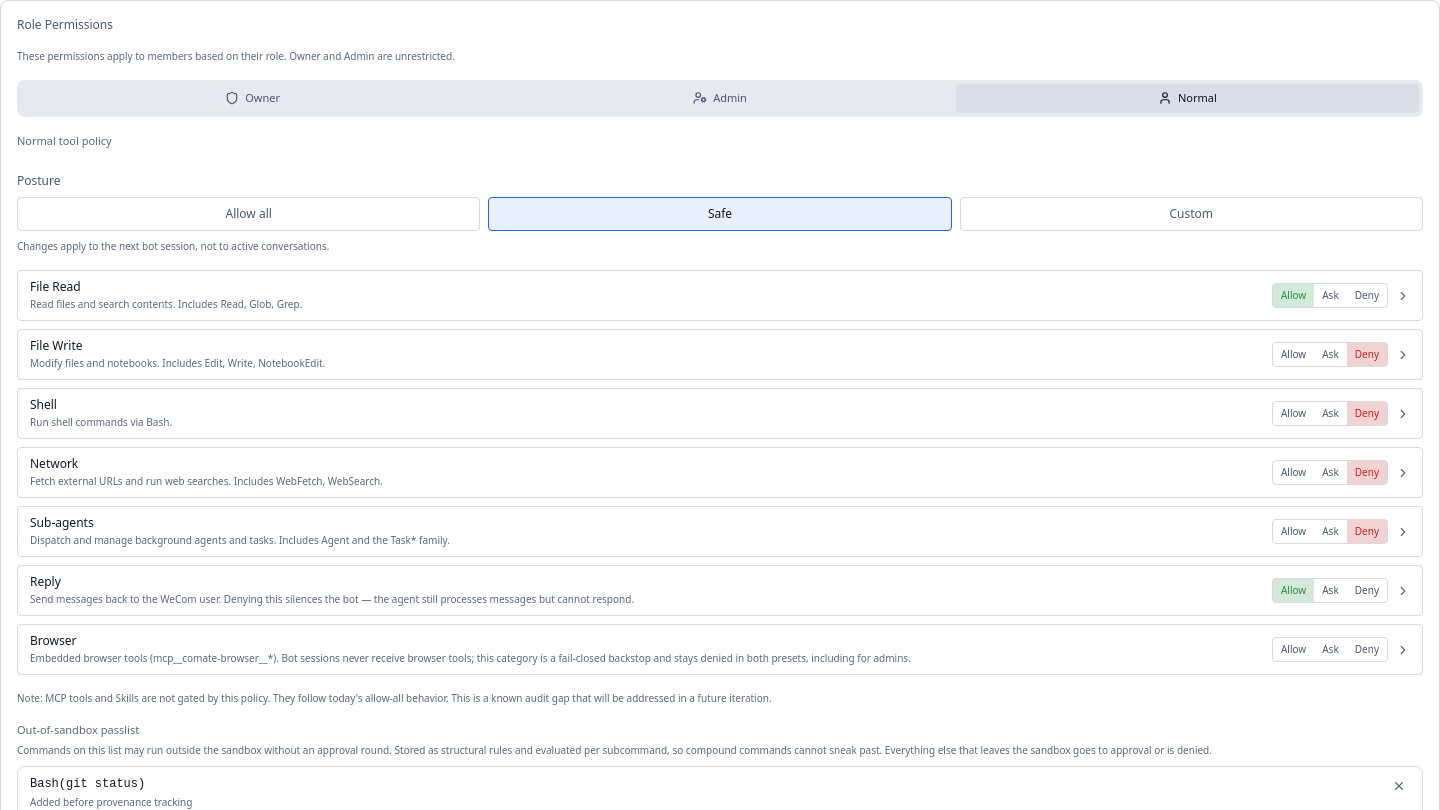
it: BotRolePermissions › removes an entry via its remove button
Click the button named "Remove" at (1399, 786), box [1388, 774, 1410, 796]
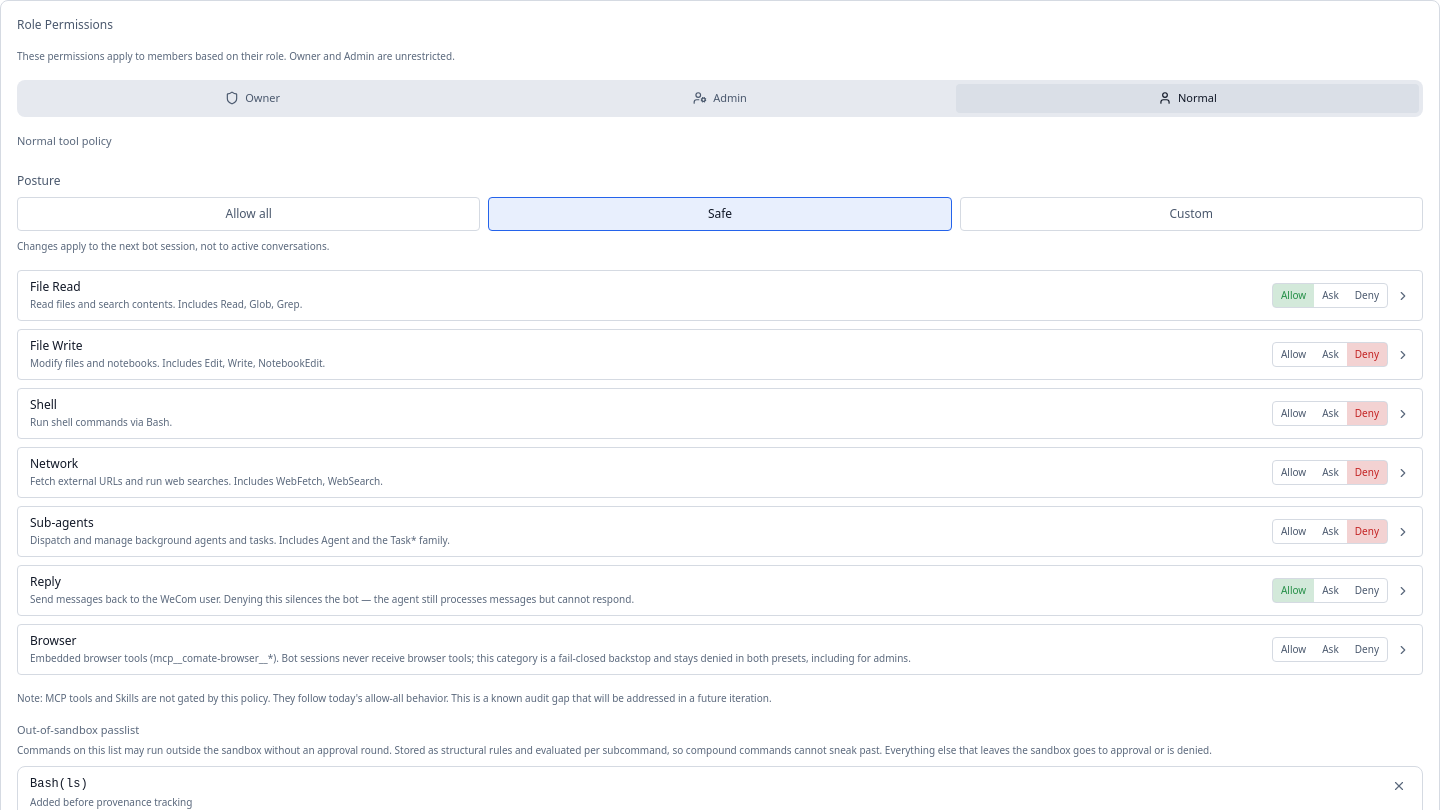
Check: the text "Bash(ls)" is shown, box [30, 776, 88, 790]
Check: the text "Bash(git status)" is gone
